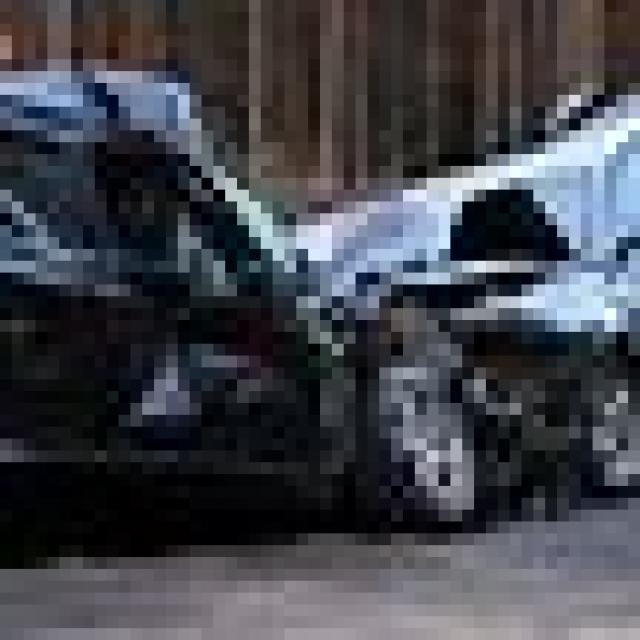Accident: (106, 47, 640, 485)
